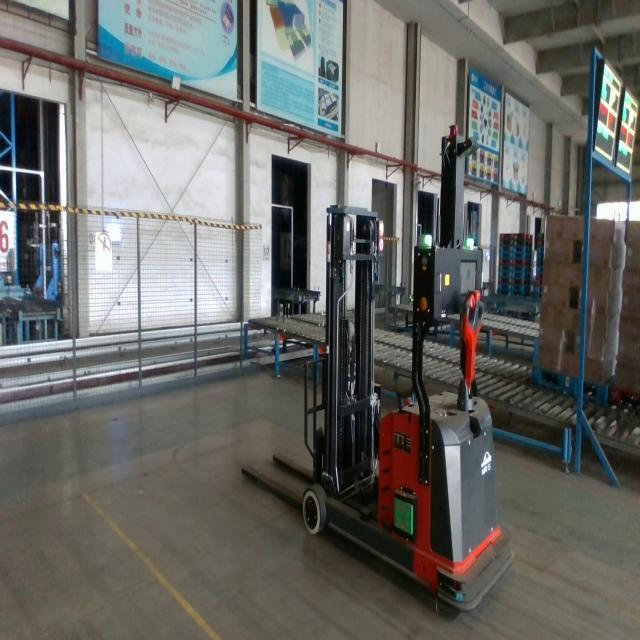forklift: (240, 124, 517, 620)
